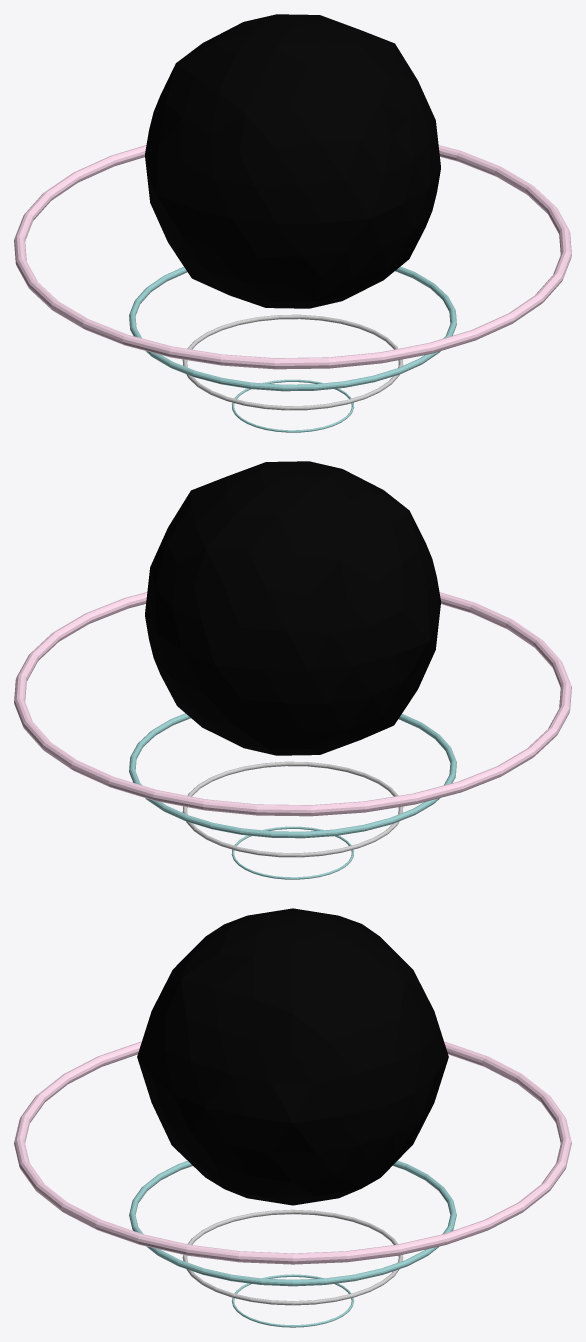
The model's file is balance star down_st2.fbx.
3 views of the same model, one above another, from view 1: azimuth 30°, elevation 25°; view 2: azimuth 150°, elevation 25°; view 3: azimuth 270°, elevation 25° (orthographic).
Parts seen in each view (by area): view 1: sphere_star, flat_art_ring__in, flat_art_ring__out_001, flat_art_ring__out_002, flat_art_ring__out_003; view 2: sphere_star, flat_art_ring__in, flat_art_ring__out_001, flat_art_ring__out_002, flat_art_ring__out_003; view 3: sphere_star, flat_art_ring__in, flat_art_ring__out_001, flat_art_ring__out_002, flat_art_ring__out_003.
Part boxes in pixels (<box>): sphere_star: <box>145,14,440,308</box>; flat_art_ring__in: <box>14,145,571,369</box>; flat_art_ring__out_001: <box>129,266,456,391</box>; flat_art_ring__out_002: <box>182,314,403,410</box>; flat_art_ring__out_003: <box>231,379,354,432</box>; sphere_star: <box>145,461,440,755</box>; flat_art_ring__in: <box>14,592,571,816</box>; flat_art_ring__out_001: <box>129,713,456,838</box>; flat_art_ring__out_002: <box>182,761,403,857</box>; flat_art_ring__out_003: <box>231,826,354,879</box>; sphere_star: <box>137,908,448,1205</box>; flat_art_ring__in: <box>14,1041,571,1264</box>; flat_art_ring__out_001: <box>129,1160,456,1286</box>; flat_art_ring__out_002: <box>182,1209,403,1305</box>; flat_art_ring__out_003: <box>232,1274,353,1327</box>.
Size of the model in its own units: 91.72 by 68.9 by 91.72.
